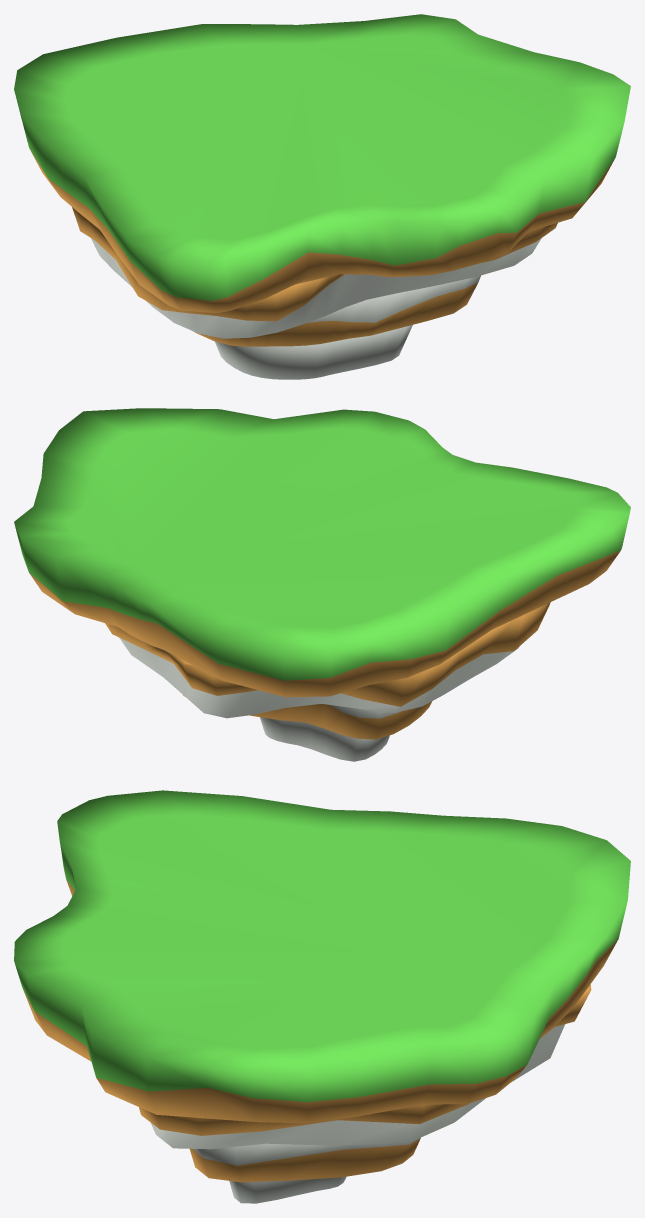
The model's file is Islands.glb.
The picture shows the model from 3 angles, top to bottom: view 1: azimuth 30°, elevation 25°; view 2: azimuth 150°, elevation 25°; view 3: azimuth 270°, elevation 25°; orthographic projection. The views are drawn at different scales.
Visible parts, largest first — view 1: Island1; view 2: Island1; view 3: Island1.
Boxes of the visible parts, bbox=[...] form: Island1: bbox=[14, 14, 630, 379]; Island1: bbox=[14, 408, 630, 761]; Island1: bbox=[14, 790, 630, 1203].
Size of the model in its own units: 240 by 99.41 by 218.
